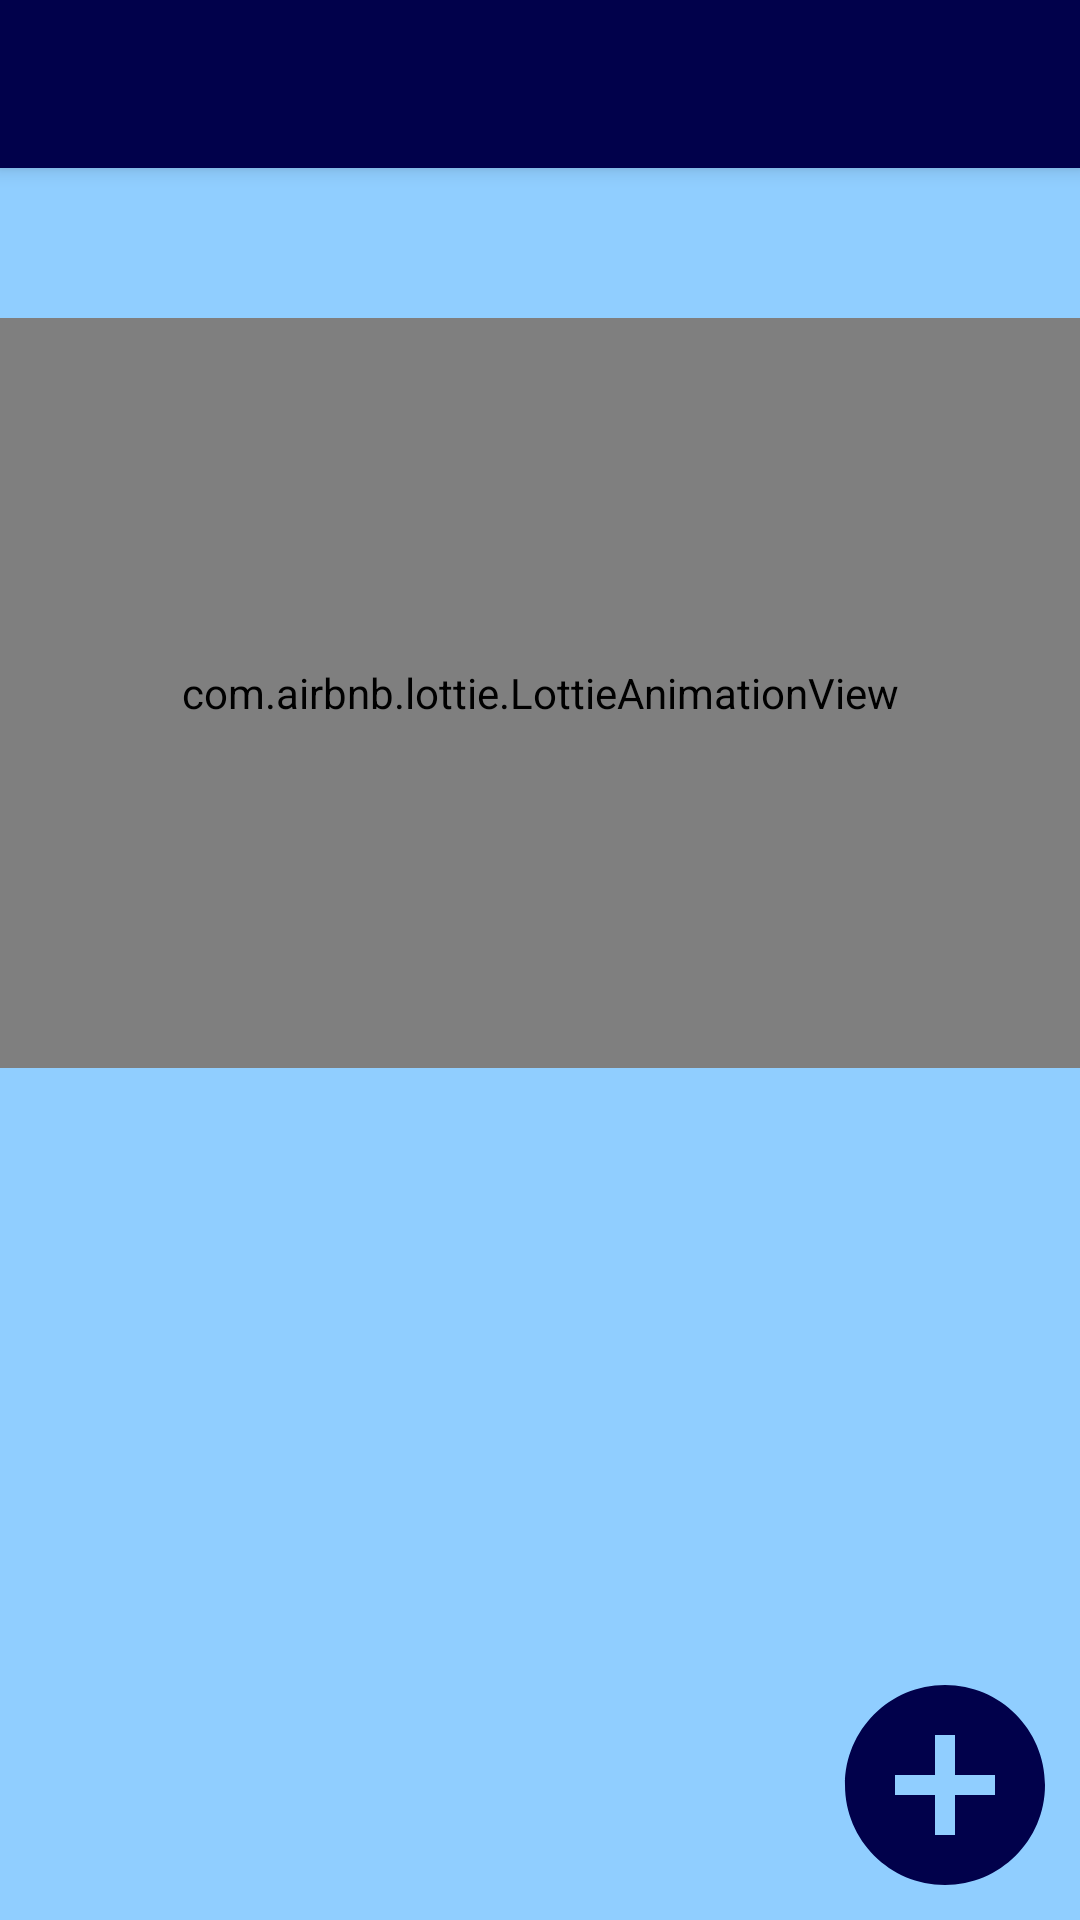

Point at icon controls on the screen. Image size 1080px×1920px, points as (x,y).
add: (945,1785)
